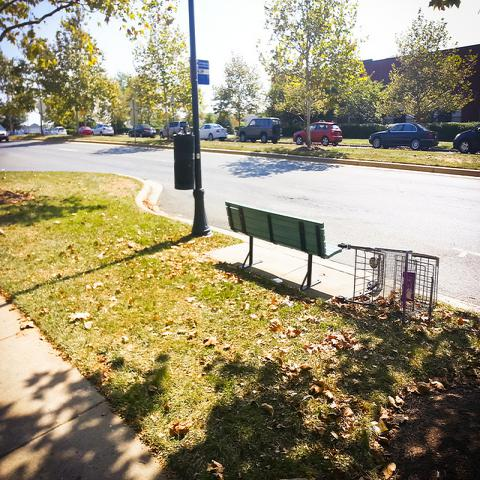car: (369, 124, 439, 150), (293, 122, 342, 146), (239, 118, 281, 144), (452, 125, 480, 154), (160, 120, 190, 139), (199, 124, 227, 141), (129, 123, 156, 138), (92, 124, 114, 136), (78, 126, 92, 136), (0, 129, 10, 142), (51, 126, 67, 134), (40, 128, 50, 135)
